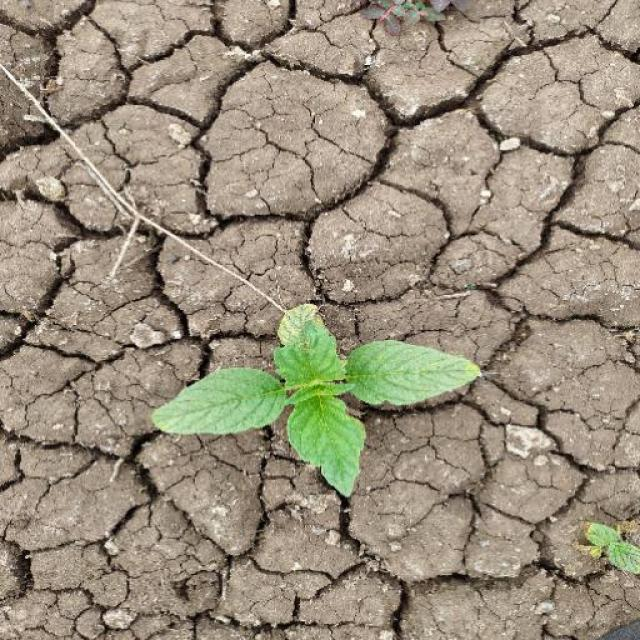crop: (145, 303, 496, 492)
